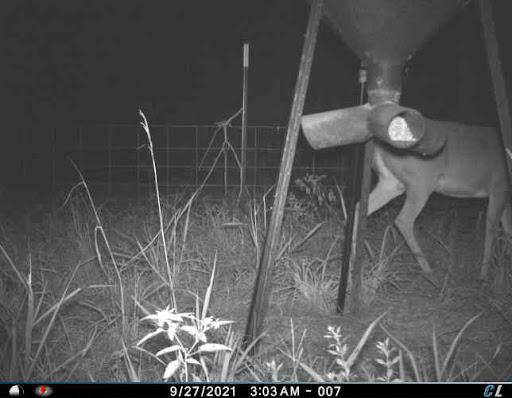Deer: (357, 96, 512, 287)
